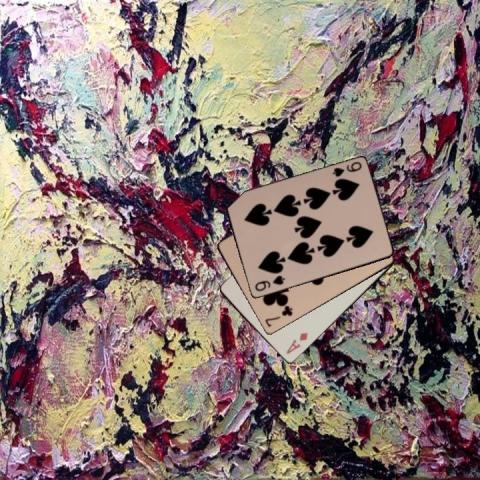7c: (262, 303, 294, 329)
9s: (251, 272, 286, 292), (329, 158, 363, 178)
Ad: (283, 330, 309, 356)
